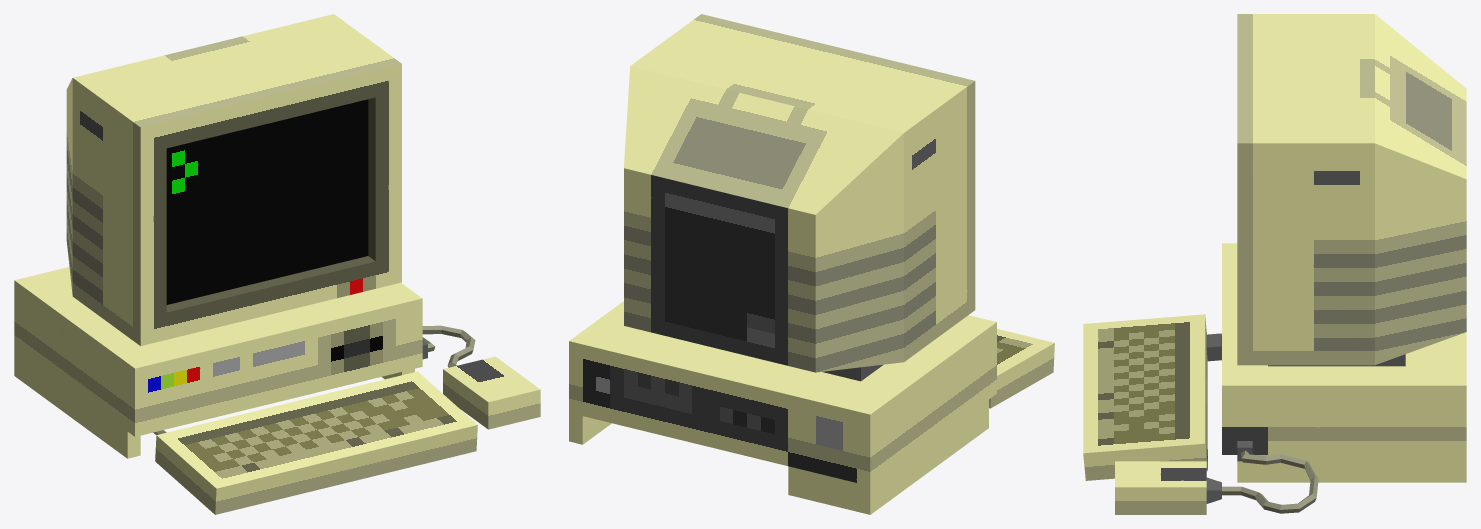
File: cute_computer.glb
The picture shows the model from 3 angles, left to right: view 1: azimuth 30°, elevation 25°; view 2: azimuth 150°, elevation 25°; view 3: azimuth 270°, elevation 25°; orthographic projection. The views are drawn at different scales.
Visible parts, largest first — view 1: Monitor, PC, Keyboard, Mouse; view 2: Monitor, PC, Keyboard; view 3: Monitor, PC, Keyboard, Mouse.
Part boxes in pixels (x1=…): Monitor: x1=66, y1=14, x2=401, y2=346; PC: x1=14, y1=267, x2=422, y2=458; Keyboard: x1=153, y1=371, x2=477, y2=514; Mouse: x1=422, y1=325, x2=540, y2=429; Monitor: x1=624, y1=14, x2=975, y2=381; PC: x1=569, y1=301, x2=996, y2=514; Keyboard: x1=989, y1=329, x2=1054, y2=408; Monitor: x1=1237, y1=14, x2=1466, y2=366; PC: x1=1222, y1=243, x2=1466, y2=482; Keyboard: x1=1083, y1=314, x2=1221, y2=480; Mouse: x1=1115, y1=441, x2=1318, y2=514.
Bounding box in the file's own units: 1.77 × 1.52 × 1.57.
Materials: 1 (1 with a texture image).
